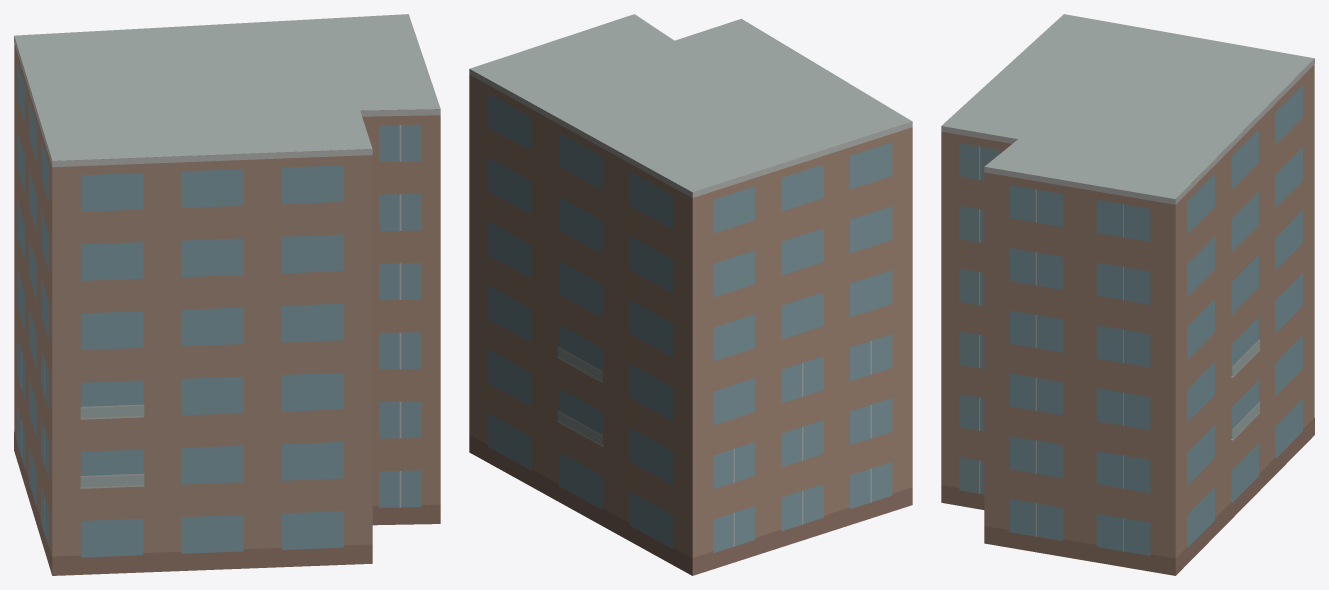
The model's file is survey-upis-32898754.glb.
The picture shows the model from 3 angles, left to right: view 1: azimuth 30°, elevation 25°; view 2: azimuth 150°, elevation 25°; view 3: azimuth 270°, elevation 25°; orthographic projection. The views are drawn at different scales.
Parts seen in each view (by area): view 1: survey-upis-32898754.tmp; view 2: survey-upis-32898754.tmp; view 3: survey-upis-32898754.tmp.
Part boxes in pixels (<box>): survey-upis-32898754.tmp: <box>14,14,440,575</box>; survey-upis-32898754.tmp: <box>469,14,912,575</box>; survey-upis-32898754.tmp: <box>941,14,1314,575</box>.
Size of the model in its own units: 17.09 by 16.2 by 14.57.
